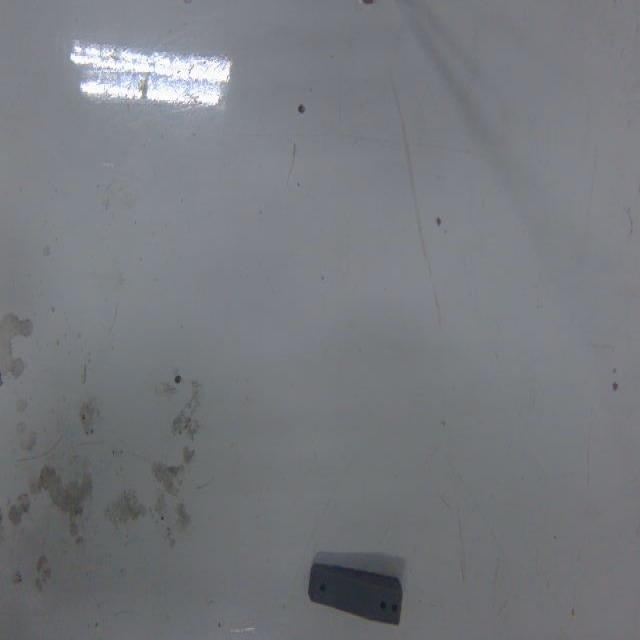grey: (306, 559, 404, 632)
head: (318, 581, 328, 594)
